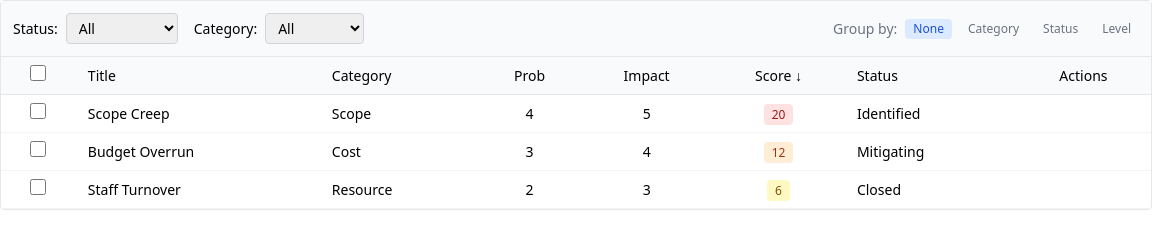
Scenario: RiskRegister › filters risks by category
Select "Cost" in the dropdown labelled "Category:". click: (315, 28)
box: [265,13,364,44]
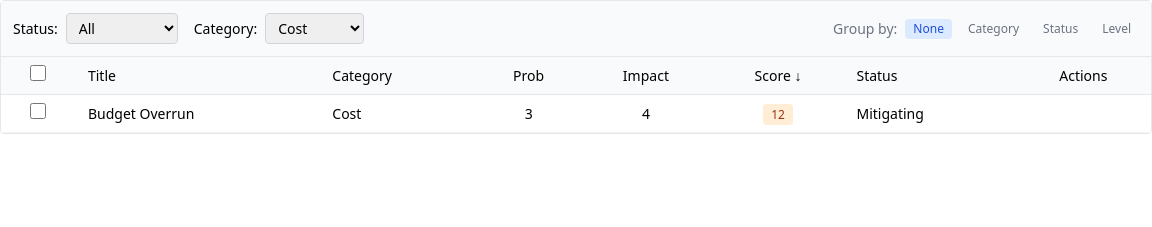
Check: the text "Budget Overrun" is shown, box [76,94,320,132]
Check: the text "Scope Creep" is gone
